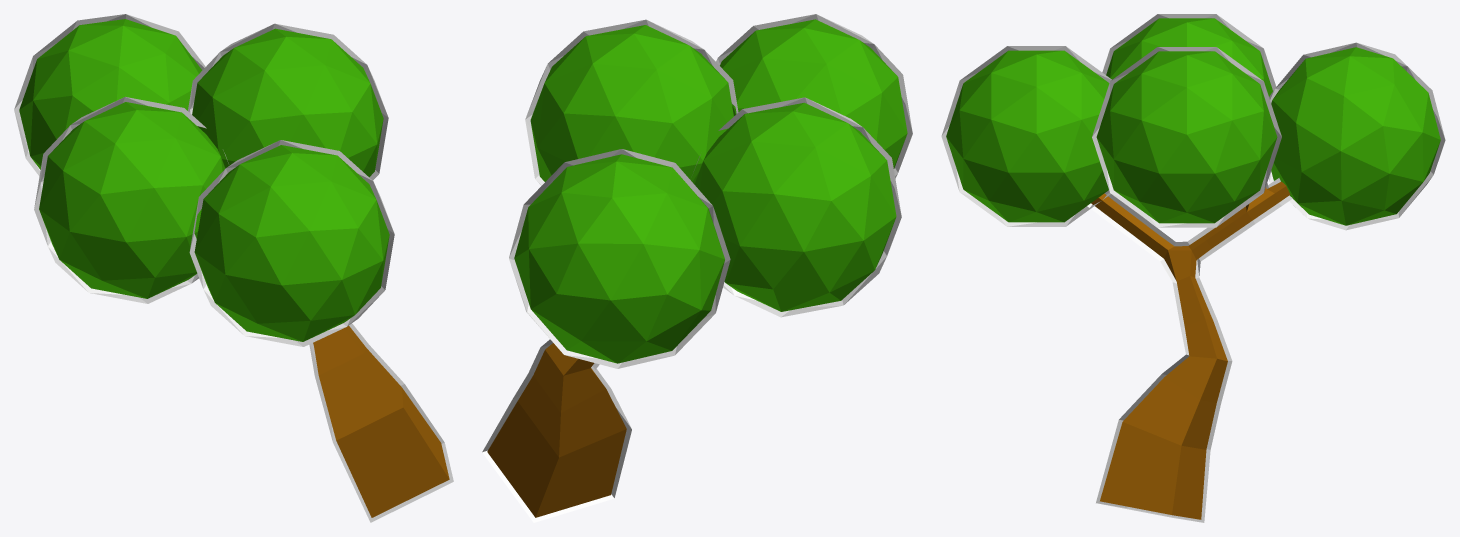
Rendered from tree_round.glb.
3 renders of one model, left to right at view 1: azimuth 30°, elevation 25°; view 2: azimuth 150°, elevation 25°; view 3: azimuth 270°, elevation 25°, orthographic. The views are drawn at different scales.
Parts seen in each view (by area): view 1: Cube; view 2: Cube; view 3: Cube.
Part boxes in pixels (<box>): Cube: <box>14,14,453,522</box>; Cube: <box>482,14,912,522</box>; Cube: <box>941,14,1445,522</box>.
Size of the model in its own units: 11.34 by 13.43 by 14.12.
